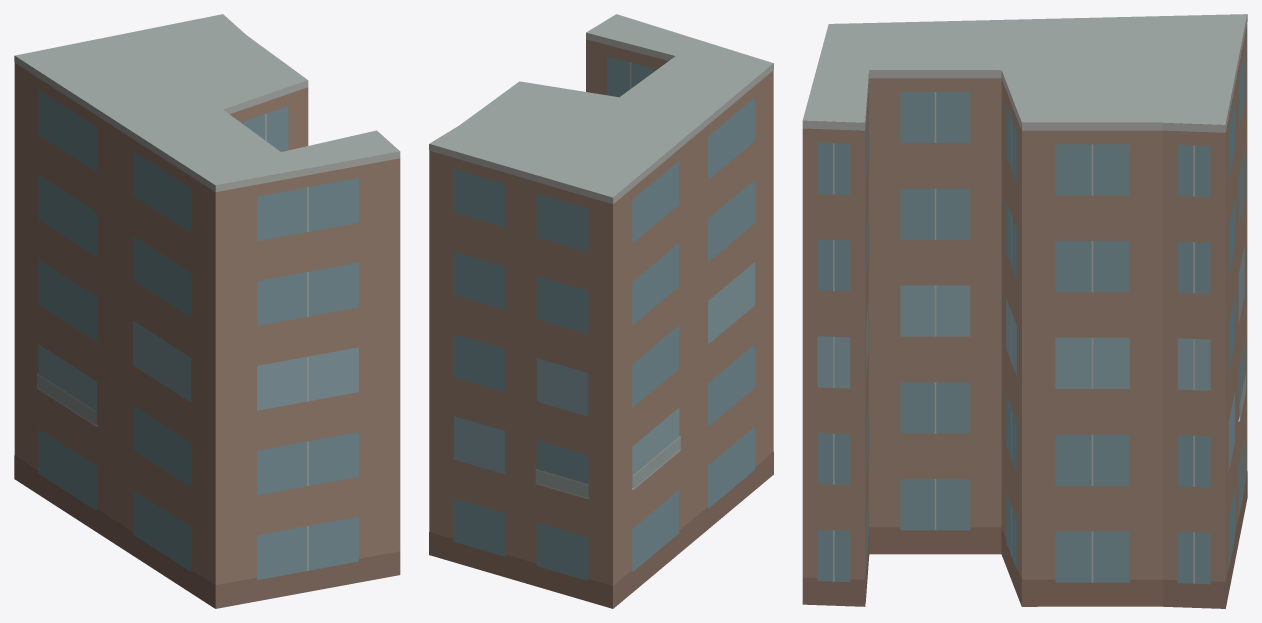
The model's file is survey-upis-32975557.glb.
3 views of the same model, side by side, from view 1: azimuth 30°, elevation 25°; view 2: azimuth 150°, elevation 25°; view 3: azimuth 270°, elevation 25° (orthographic). The views are drawn at different scales.
Visible parts, largest first — view 1: survey-upis-32975557.tmp; view 2: survey-upis-32975557.tmp; view 3: survey-upis-32975557.tmp.
Part boxes in pixels (bbox=[...]): survey-upis-32975557.tmp: bbox=[14, 14, 400, 608]; survey-upis-32975557.tmp: bbox=[429, 14, 773, 608]; survey-upis-32975557.tmp: bbox=[802, 14, 1247, 608].
Size of the model in its own units: 7.38 by 15 by 12.51.
